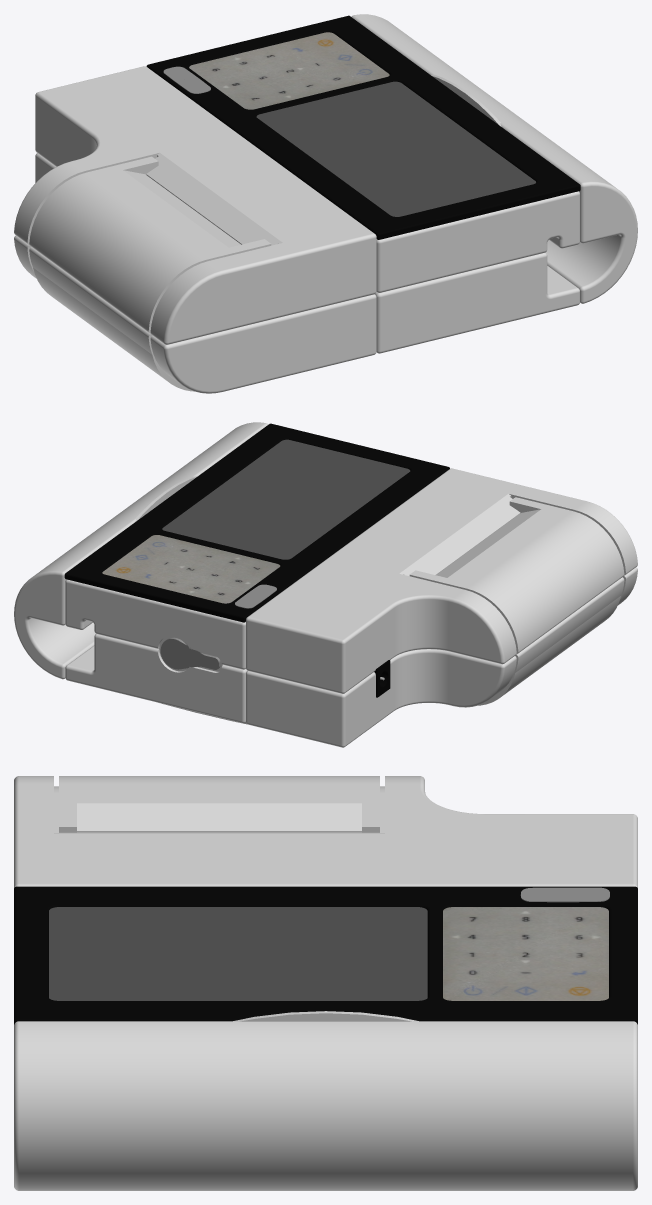
File: arkray_PocketChem UA PU-4010.obj
3 renders of one model, top to bottom at view 1: azimuth 30°, elevation 25°; view 2: azimuth 150°, elevation 25°; view 3: azimuth 270°, elevation 25°, orthographic. The views are drawn at different scales.
Visible parts, largest first — view 1: object8.009, object2.009, object18.008, object12.009, object10.009, object11.009, object16.008, object3.009, object15.008; view 2: object8.009, object12.009, object2.009, object18.008, object10.009, object11.009, object16.008, object3.009, object6.009, object15.008; view 3: object10.009, object8.009, object2.009, object18.008, object3.009, object15.008.
Boxes of the visible parts, box(x1,y1,x2,y2) form: object8.009: box(14, 66, 376, 344); object2.009: box(256, 81, 535, 216); object18.008: box(146, 15, 580, 239); object12.009: box(14, 153, 376, 393); object10.009: box(351, 14, 637, 303); object11.009: box(375, 252, 579, 353); object16.008: box(376, 191, 579, 292); object3.009: box(189, 32, 389, 109); object15.008: box(163, 66, 210, 93); object8.009: box(246, 468, 637, 693); object12.009: box(246, 567, 637, 747); object2.009: box(162, 439, 410, 559); object18.008: box(64, 423, 449, 622); object10.009: box(14, 422, 268, 679); object11.009: box(65, 634, 247, 723); object16.008: box(65, 579, 245, 669); object3.009: box(102, 535, 280, 603); object6.009: box(160, 637, 220, 669); object15.008: box(235, 584, 276, 608); object10.009: box(14, 1011, 637, 1190); object8.009: box(14, 776, 637, 887); object2.009: box(49, 907, 427, 1000); object18.008: box(14, 886, 637, 1024); object3.009: box(443, 907, 608, 1000); object15.008: box(520, 887, 609, 902).
Size of the model in its own units: 0.1473 by 0.0409 by 0.1249.
6 materials, 1 textured.
